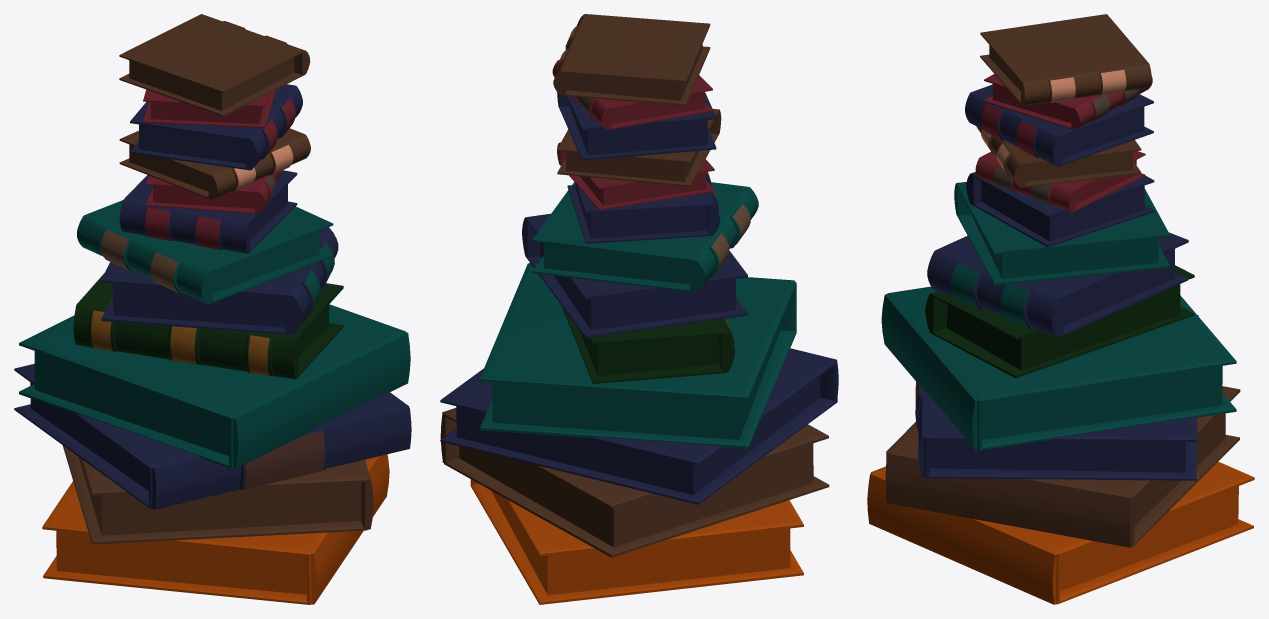
File: Pila Libri 1.fbx
3 views of the same model, side by side, from view 1: azimuth 30°, elevation 25°; view 2: azimuth 150°, elevation 25°; view 3: azimuth 270°, elevation 25° (orthographic).
Parts seen in each view (by area): view 1: Pila 2; view 2: Pila 2; view 3: Pila 2.
Boxes of the visible parts, bbox=[...] form: Pila 2: bbox=[14, 14, 411, 604]; Pila 2: bbox=[440, 14, 838, 604]; Pila 2: bbox=[867, 14, 1254, 604].
Size of the model in its own units: 86.72 by 119 by 86.65.
